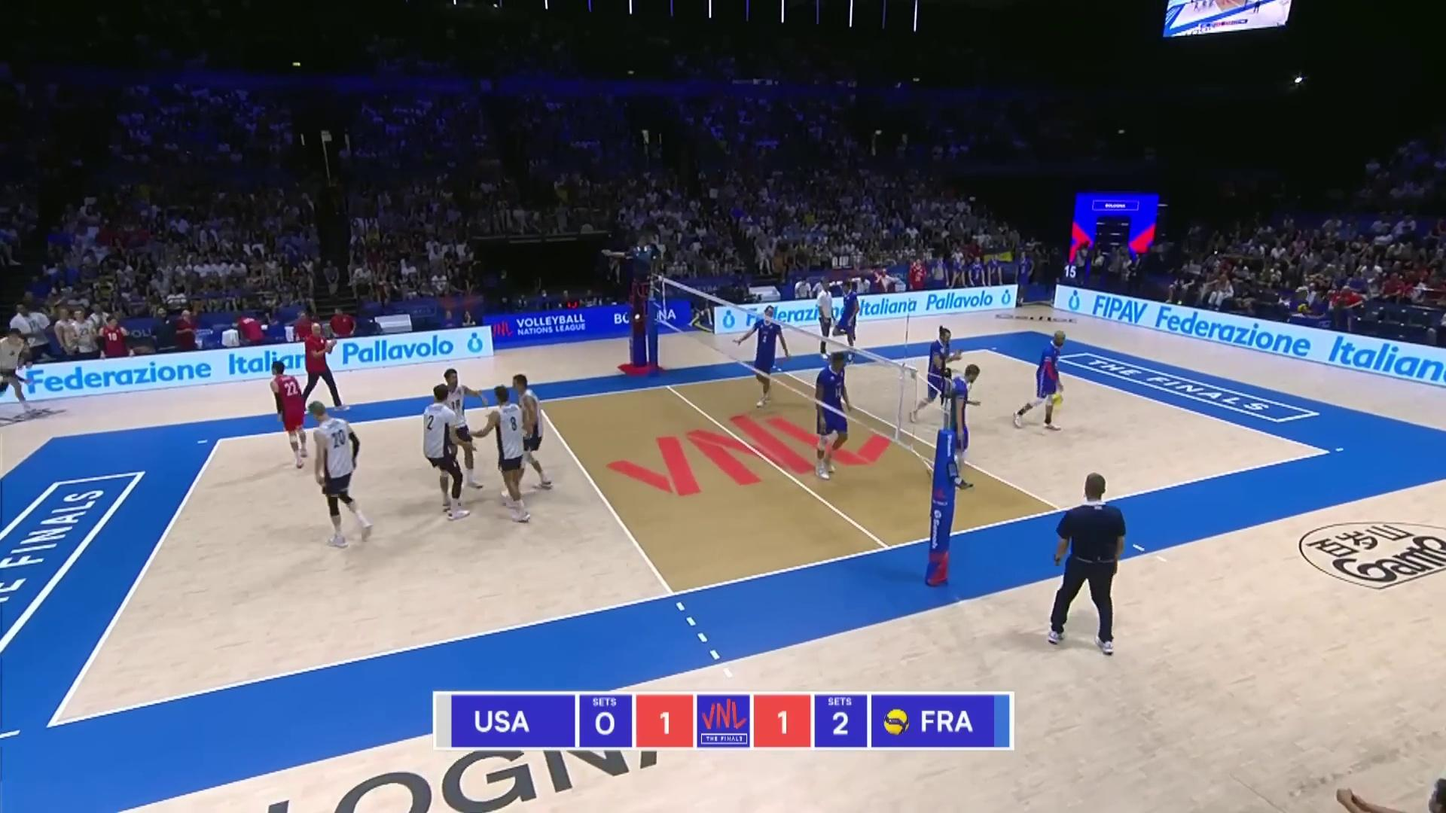player: (304, 402, 372, 549), (480, 387, 532, 521), (423, 385, 470, 520), (432, 370, 485, 488), (1010, 335, 1069, 432), (505, 375, 553, 492), (814, 353, 854, 480), (268, 361, 310, 469), (913, 327, 956, 423), (947, 364, 980, 487), (749, 307, 781, 409), (836, 282, 859, 359)
refree: (1050, 475, 1127, 650), (630, 239, 653, 308)
